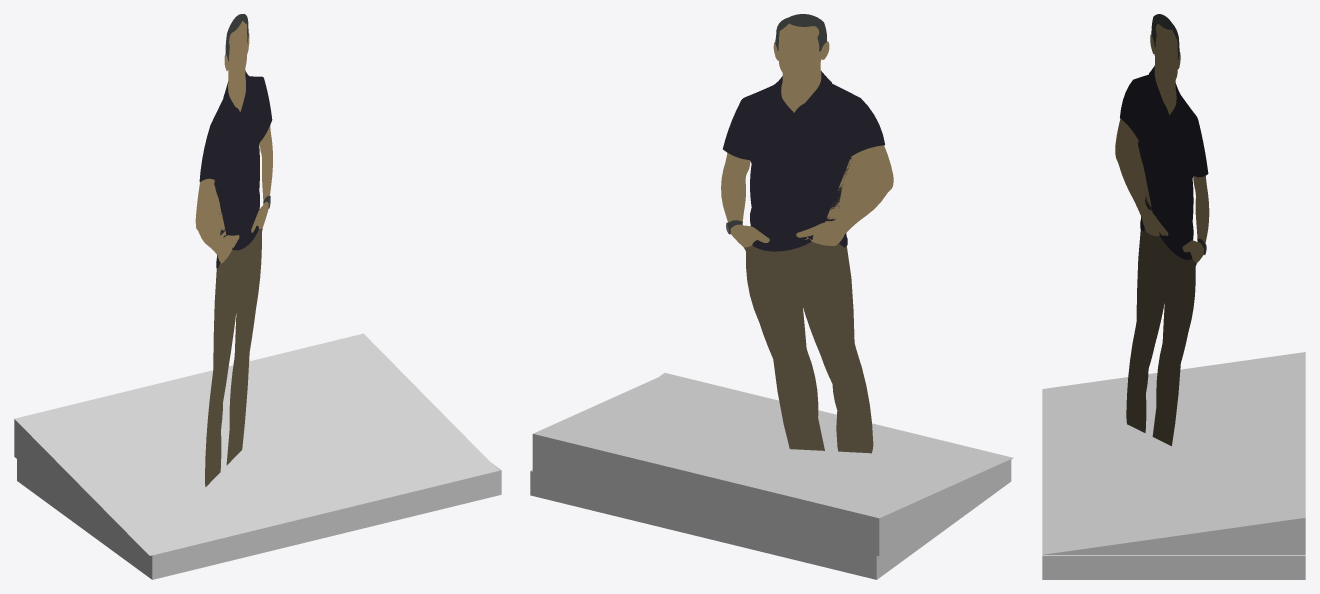
3 views of the same model, side by side, from view 1: azimuth 30°, elevation 25°; view 2: azimuth 150°, elevation 25°; view 3: azimuth 270°, elevation 25° (orthographic). The views are drawn at different scales.
Visible parts, largest first — view 1: Model, Chris1; view 2: Model, Chris1; view 3: Model, Chris1.
Boxes of the visible parts, x1,y1,x2,y2 form: Model: [14, 333, 501, 579]; Chris1: [195, 14, 272, 486]; Model: [530, 372, 1013, 579]; Chris1: [721, 14, 893, 453]; Model: [1042, 352, 1305, 579]; Chris1: [1115, 14, 1209, 446].
Size of the model in its own units: 1.35 by 1.77 by 0.9.
